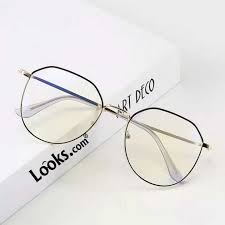bag: (39, 3, 194, 217)
